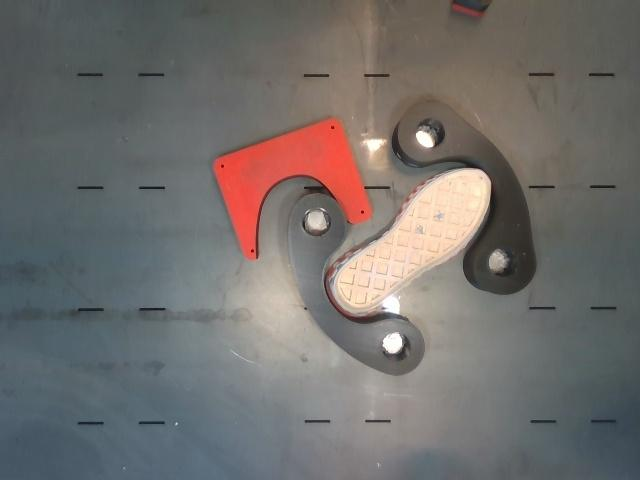shoes: (333, 169, 490, 311)
